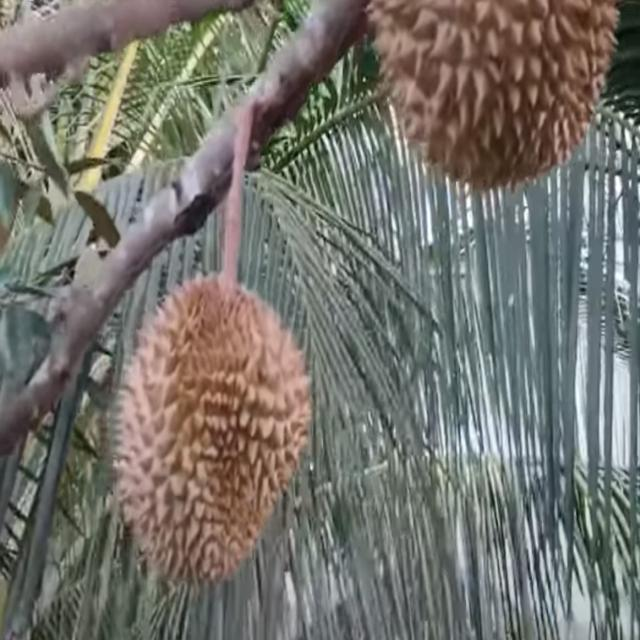mature: (111, 279, 313, 589)
